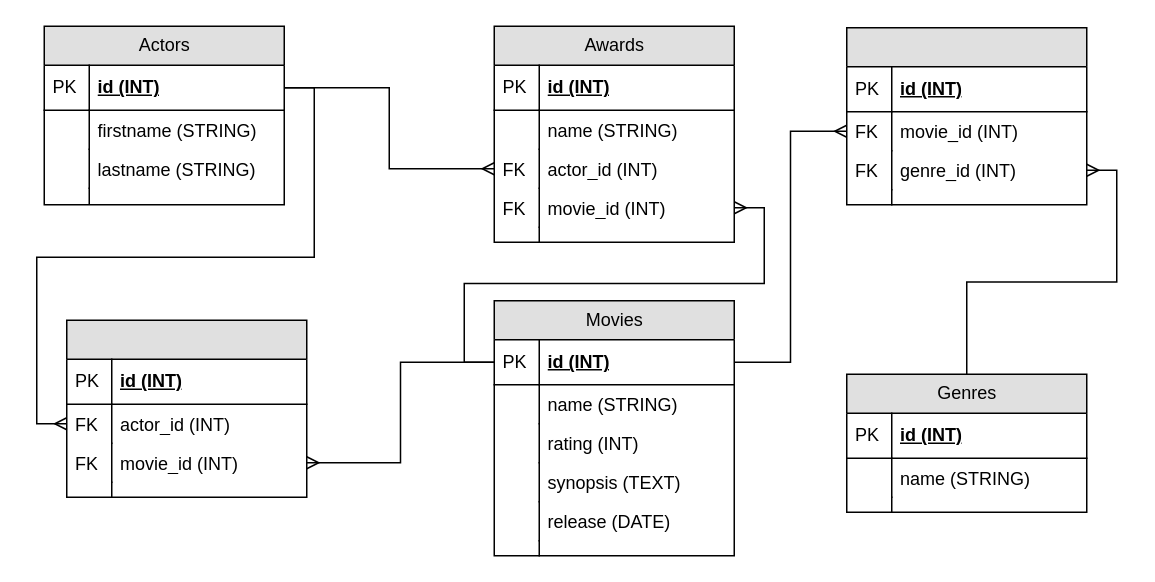
The diagram is 1155 pixels wide and 582 high, and some of its shapes have lost their labels. The shapes that lost their labels are listed below. From the top down, each one's box as (x1, y1, x2, y2) in pixels, then its label:
(845, 26, 1087, 205): Movie_Genres
(65, 319, 307, 497): Movie_Actors
